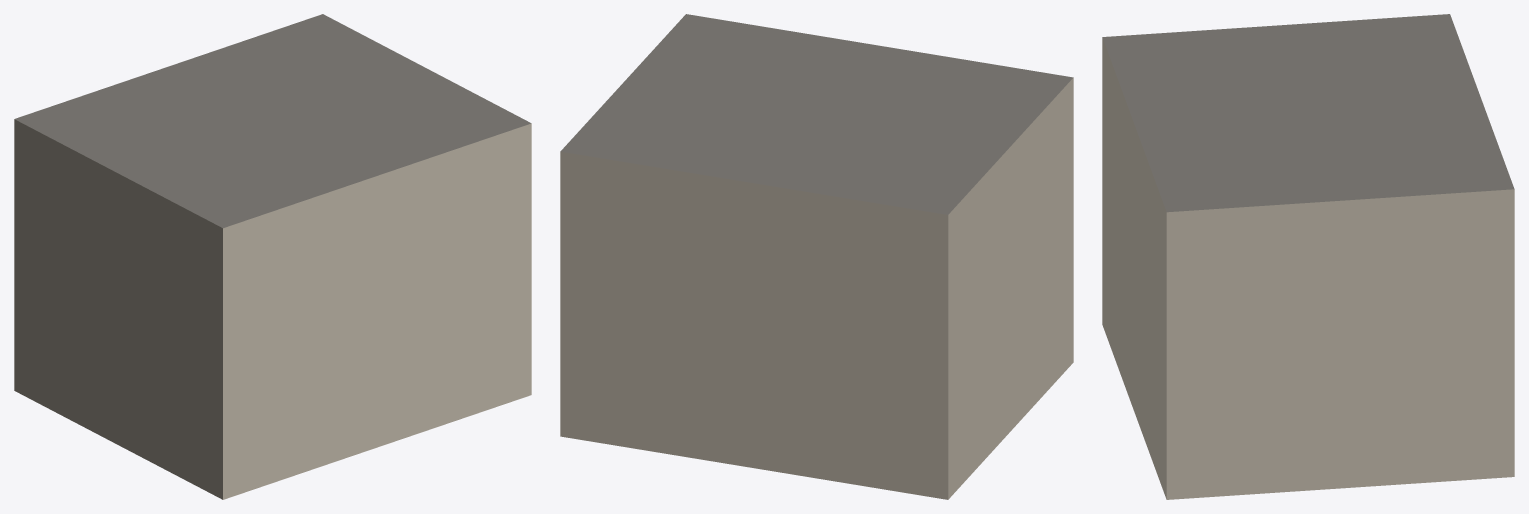
3 renders of one model, left to right at view 1: azimuth 30°, elevation 25°; view 2: azimuth 150°, elevation 25°; view 3: azimuth 270°, elevation 25°, orthographic. The views are drawn at different scales.
Parts seen in each view (by area): view 1: HP-w378107228; view 2: HP-w378107228; view 3: HP-w378107228.
Part boxes in pixels (left/top/right/bottom): HP-w378107228: left=14, top=14, right=531, bottom=499; HP-w378107228: left=560, top=14, right=1073, bottom=499; HP-w378107228: left=1102, top=14, right=1514, bottom=499.
Bounding box in the file's own units: 22.17 × 15 × 19.48.
